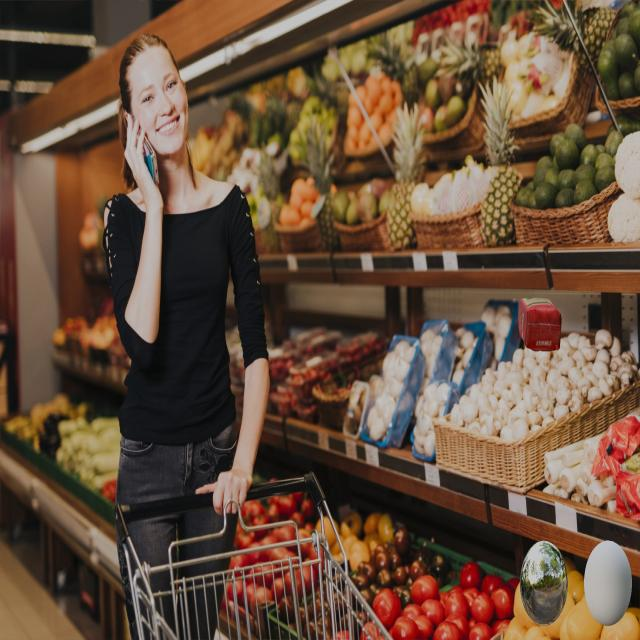mate bag: (516, 289, 563, 351)
